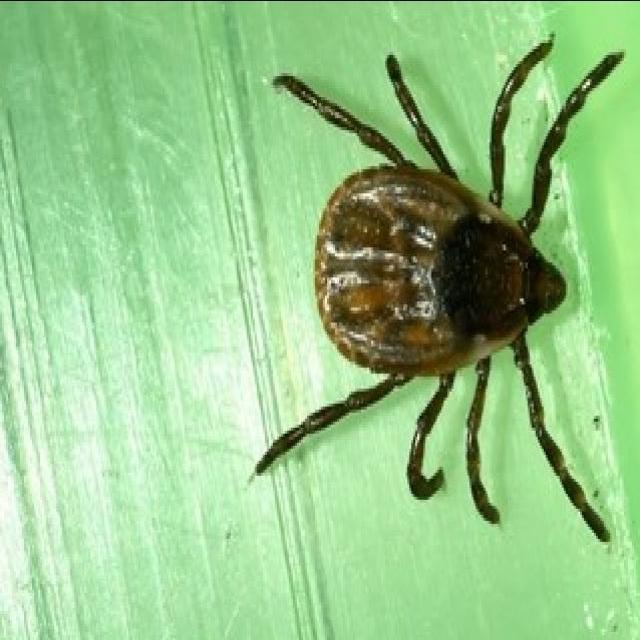Rhipicephalus Sanguineus-F: (257, 36, 624, 544)
